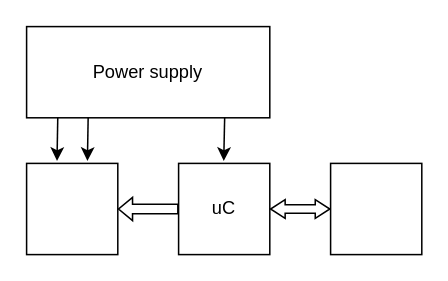
Some shapes in this 448 by 281 pixel diagram are drawn without their labels. The shapes that lost their labels are listed below. From the top down, each one's centre as x and y in pixels, then its label:
At (x=71, y=208): "Analog out".
At (x=375, y=208): "HMI".
